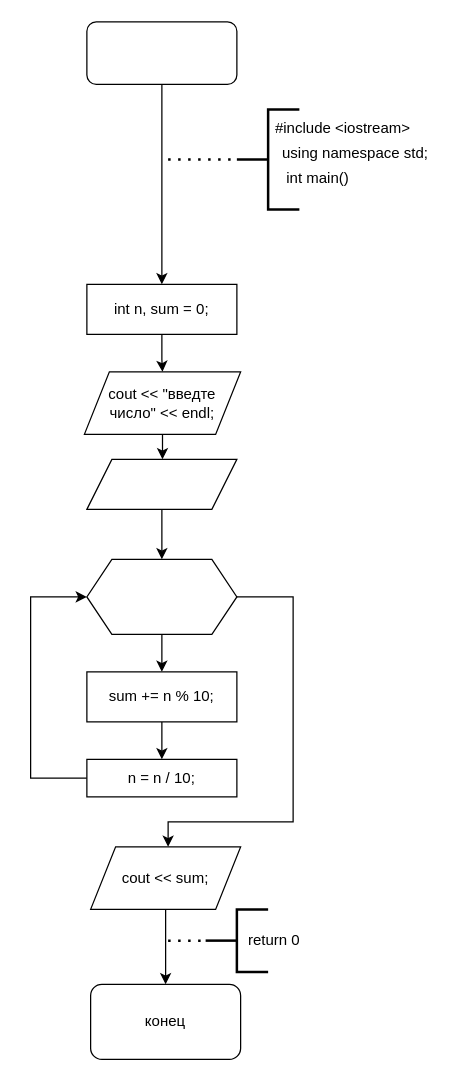
This 471x1081 diagram has some shape labels left out. Here are the shapes that lost their labels. From the top down, the centre of each, then its label:
pixel 161 52: начало
pixel 161 483: cin >> n;
pixel 161 596: while (n > 0)
